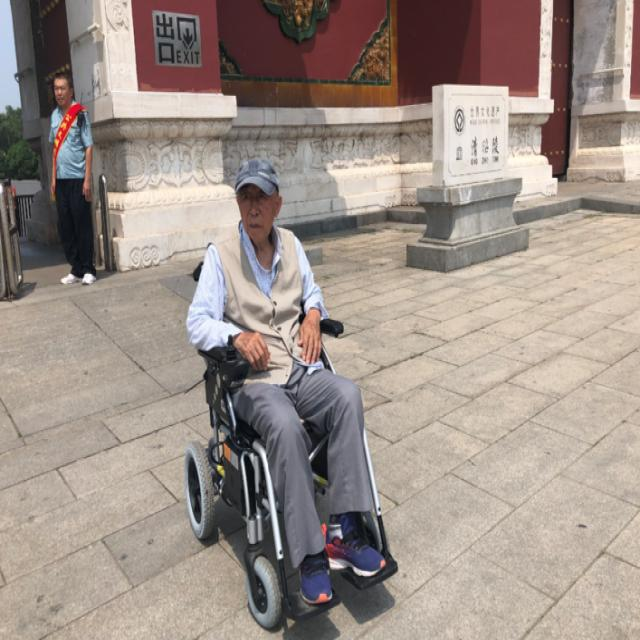wheelchairs: (171, 262, 403, 622)
